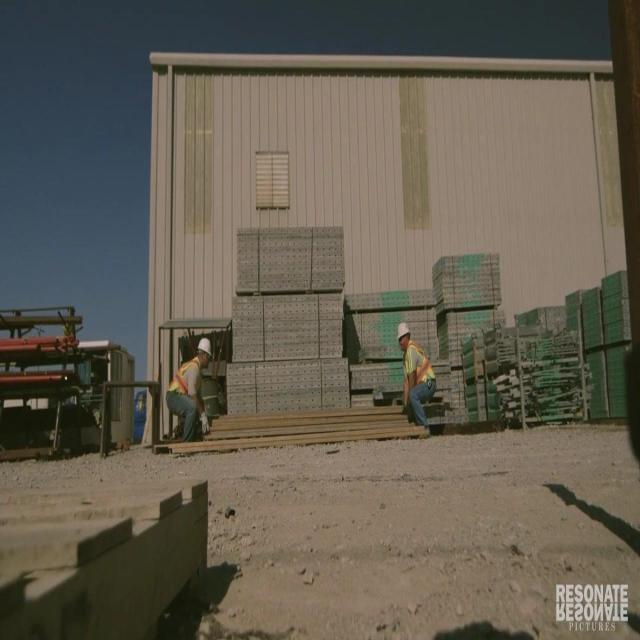Vest: (402, 341, 437, 383), (165, 357, 199, 394)
